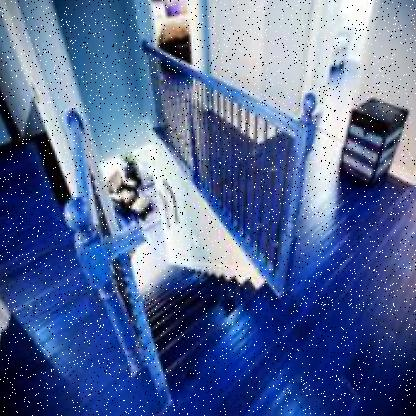stair_down: (151, 255, 274, 378)
